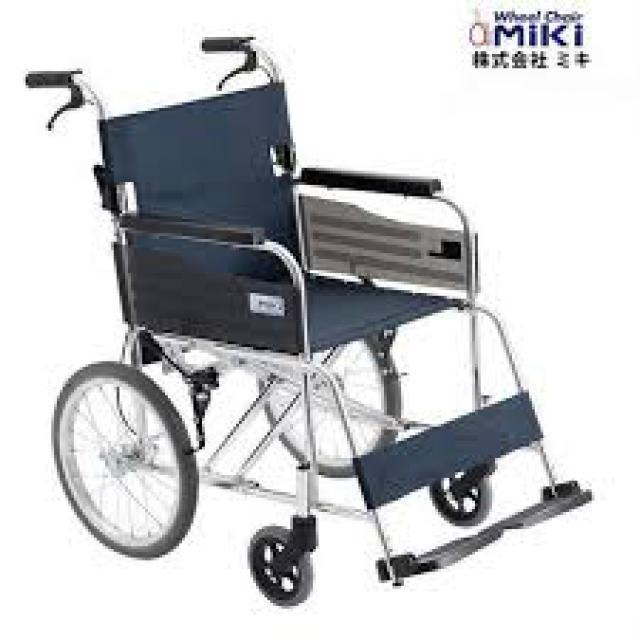wheelchair: (17, 22, 603, 612)
